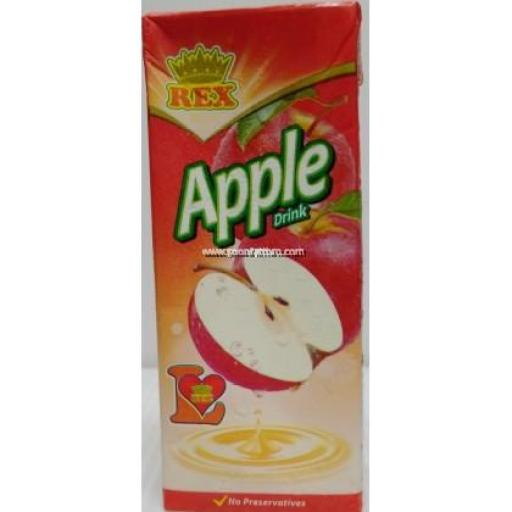drink carton: (139, 0, 370, 512)
